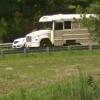Bus: (27, 11, 95, 51)
